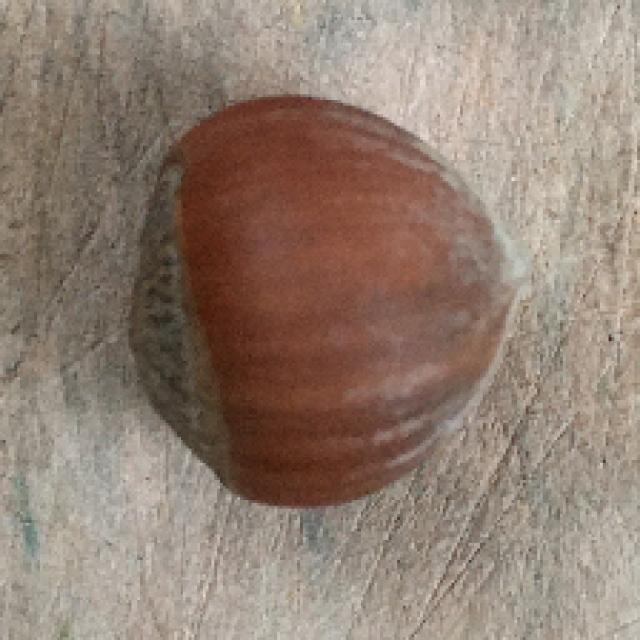qualityHazelnut: (123, 97, 518, 520)
